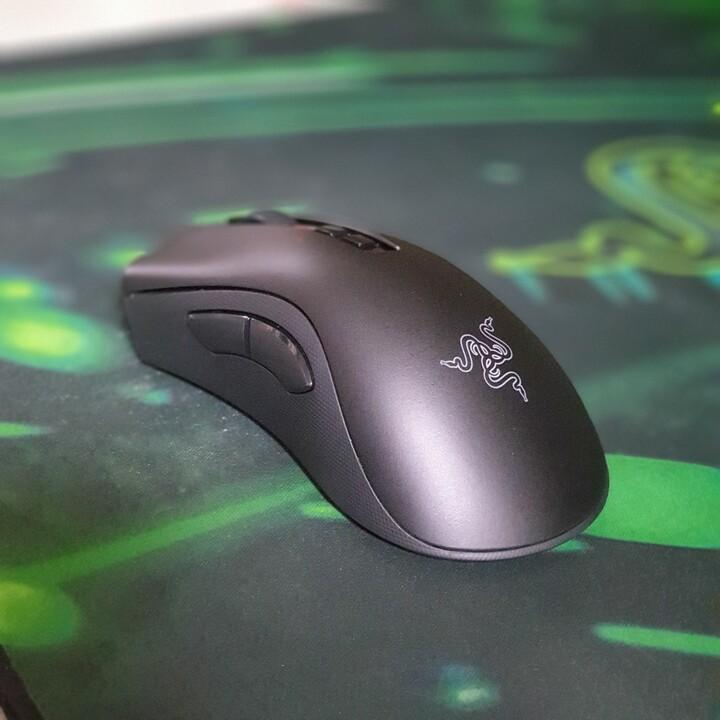mouse: (118, 207, 611, 562)
